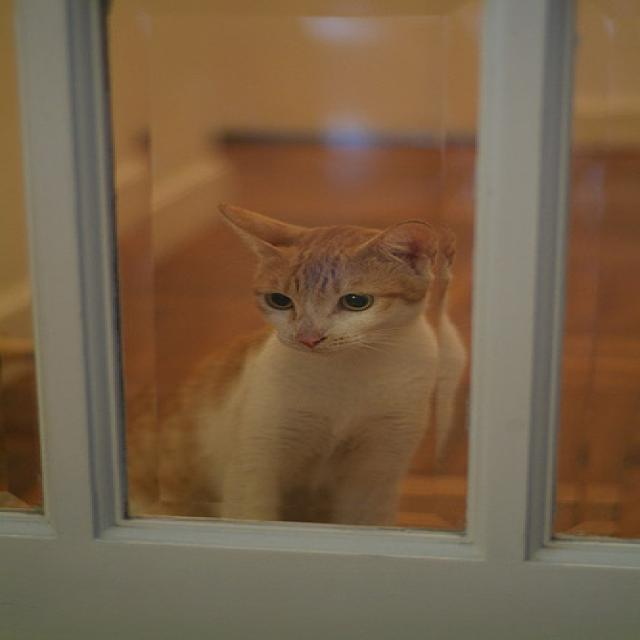left eye: (335, 291, 374, 311)
